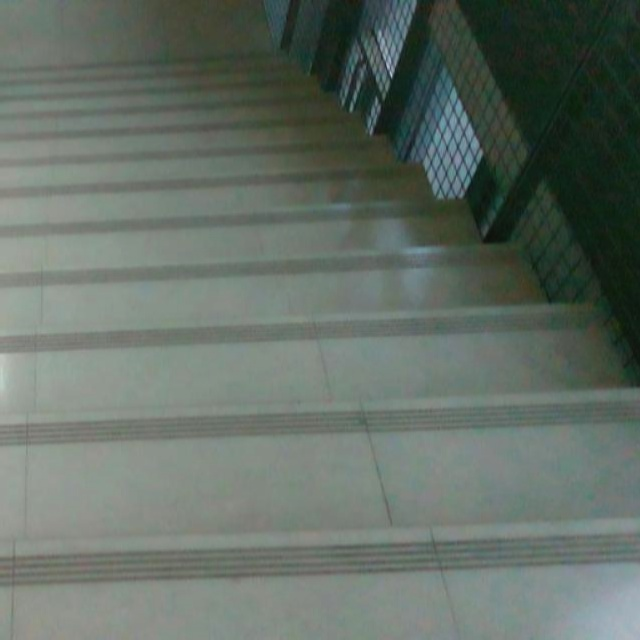stair: (0, 58, 639, 614)
